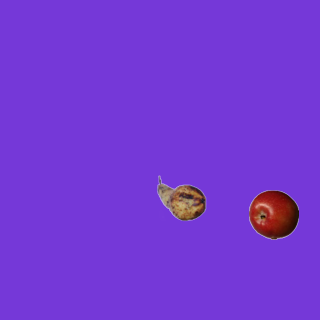Apple Braeburn: (248, 189, 298, 239)
Pear Abate: (156, 173, 206, 223)
